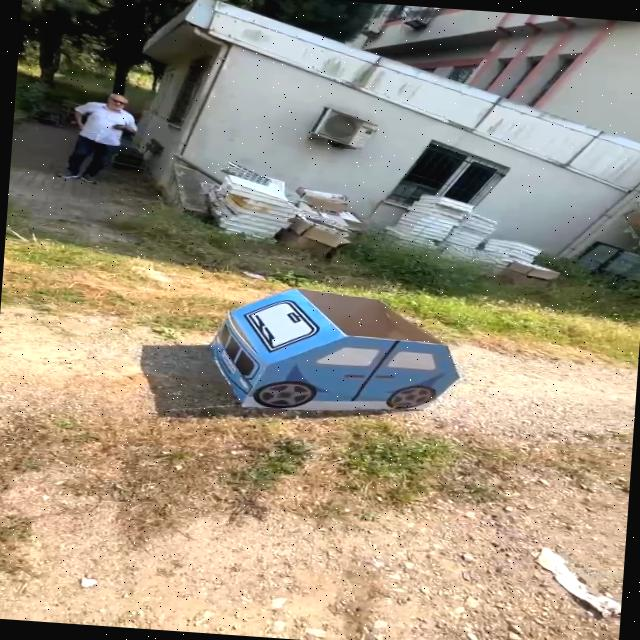blue_car: (177, 266, 472, 432)
